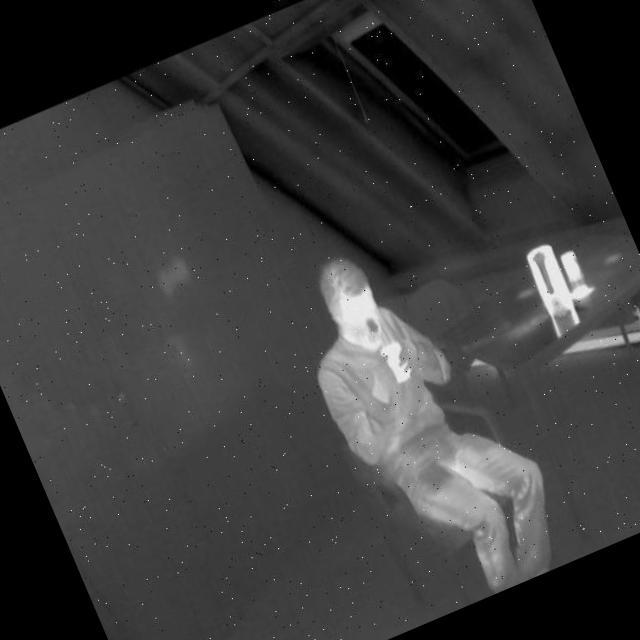person: (275, 217, 584, 626)
